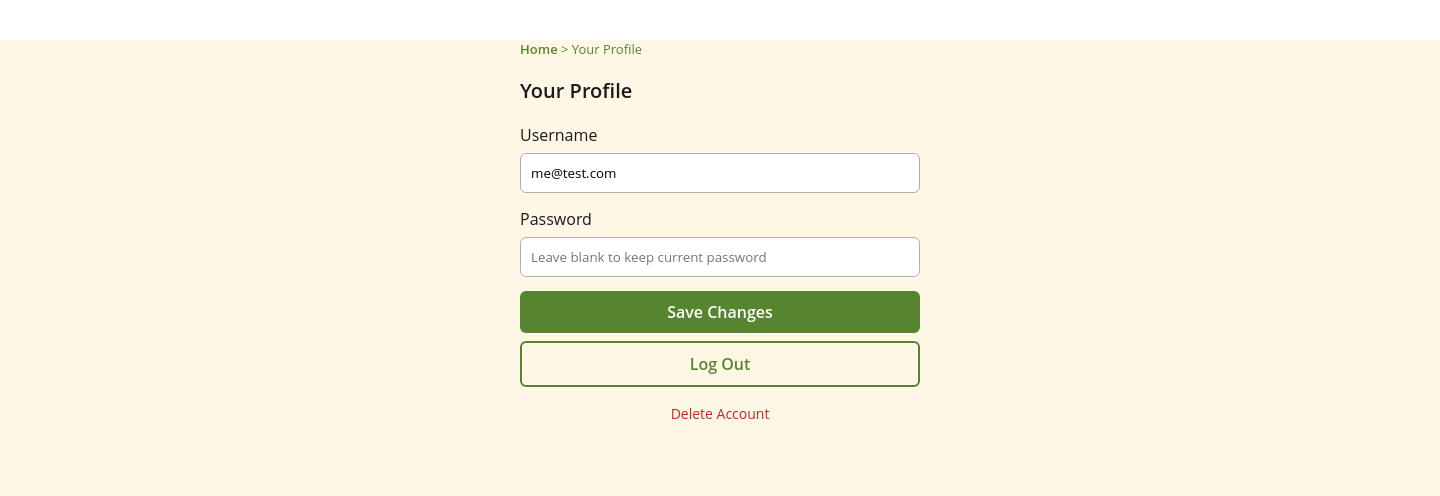
Test: ProfilePage › updates the profile and shows a success message
The image size is (1440, 496).
Replace the text in the field labelled "Username" with "new@test.com": (720, 173) [520,153,920,193]
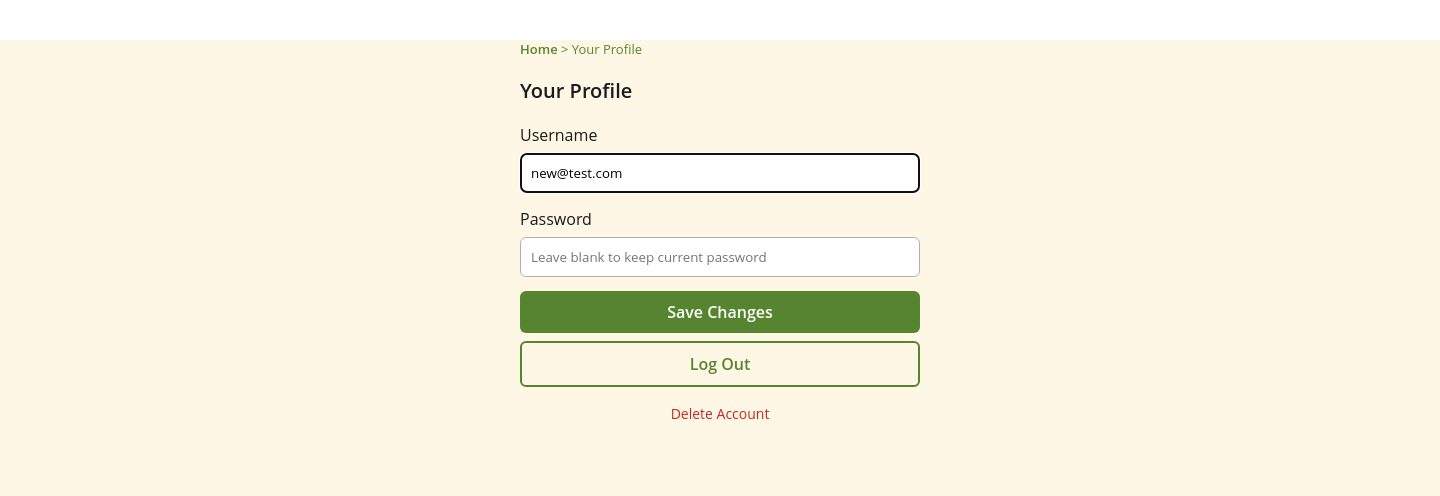
Click the button "Save Changes": (720, 312) [520,291,920,333]
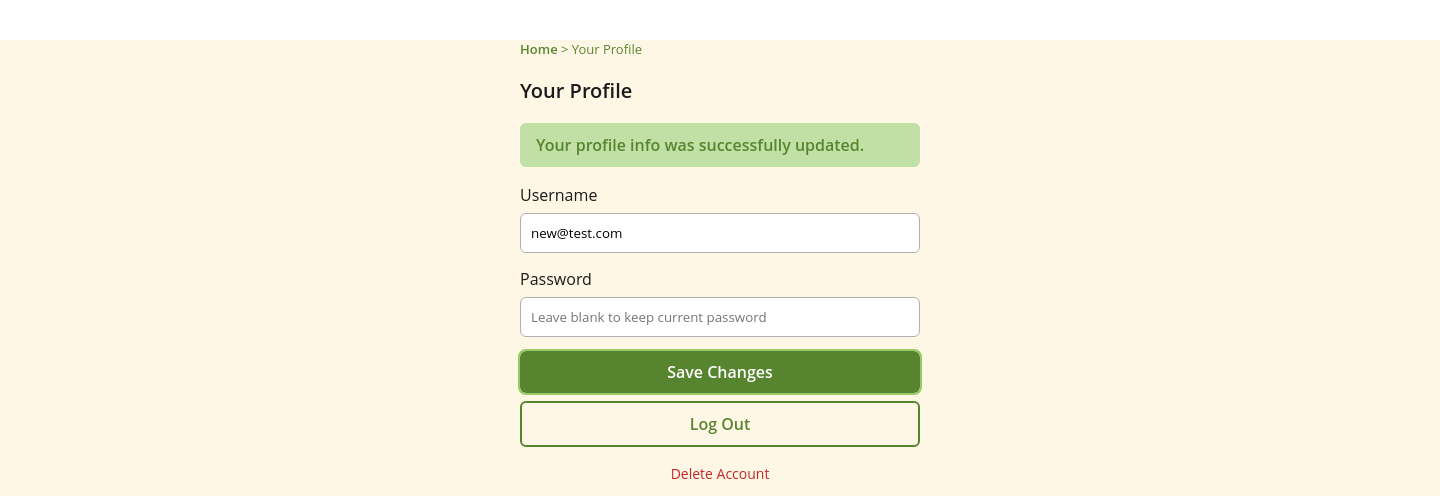
Check: the text "Your profile info was successfully updated." is shown, box [520,123,920,167]
